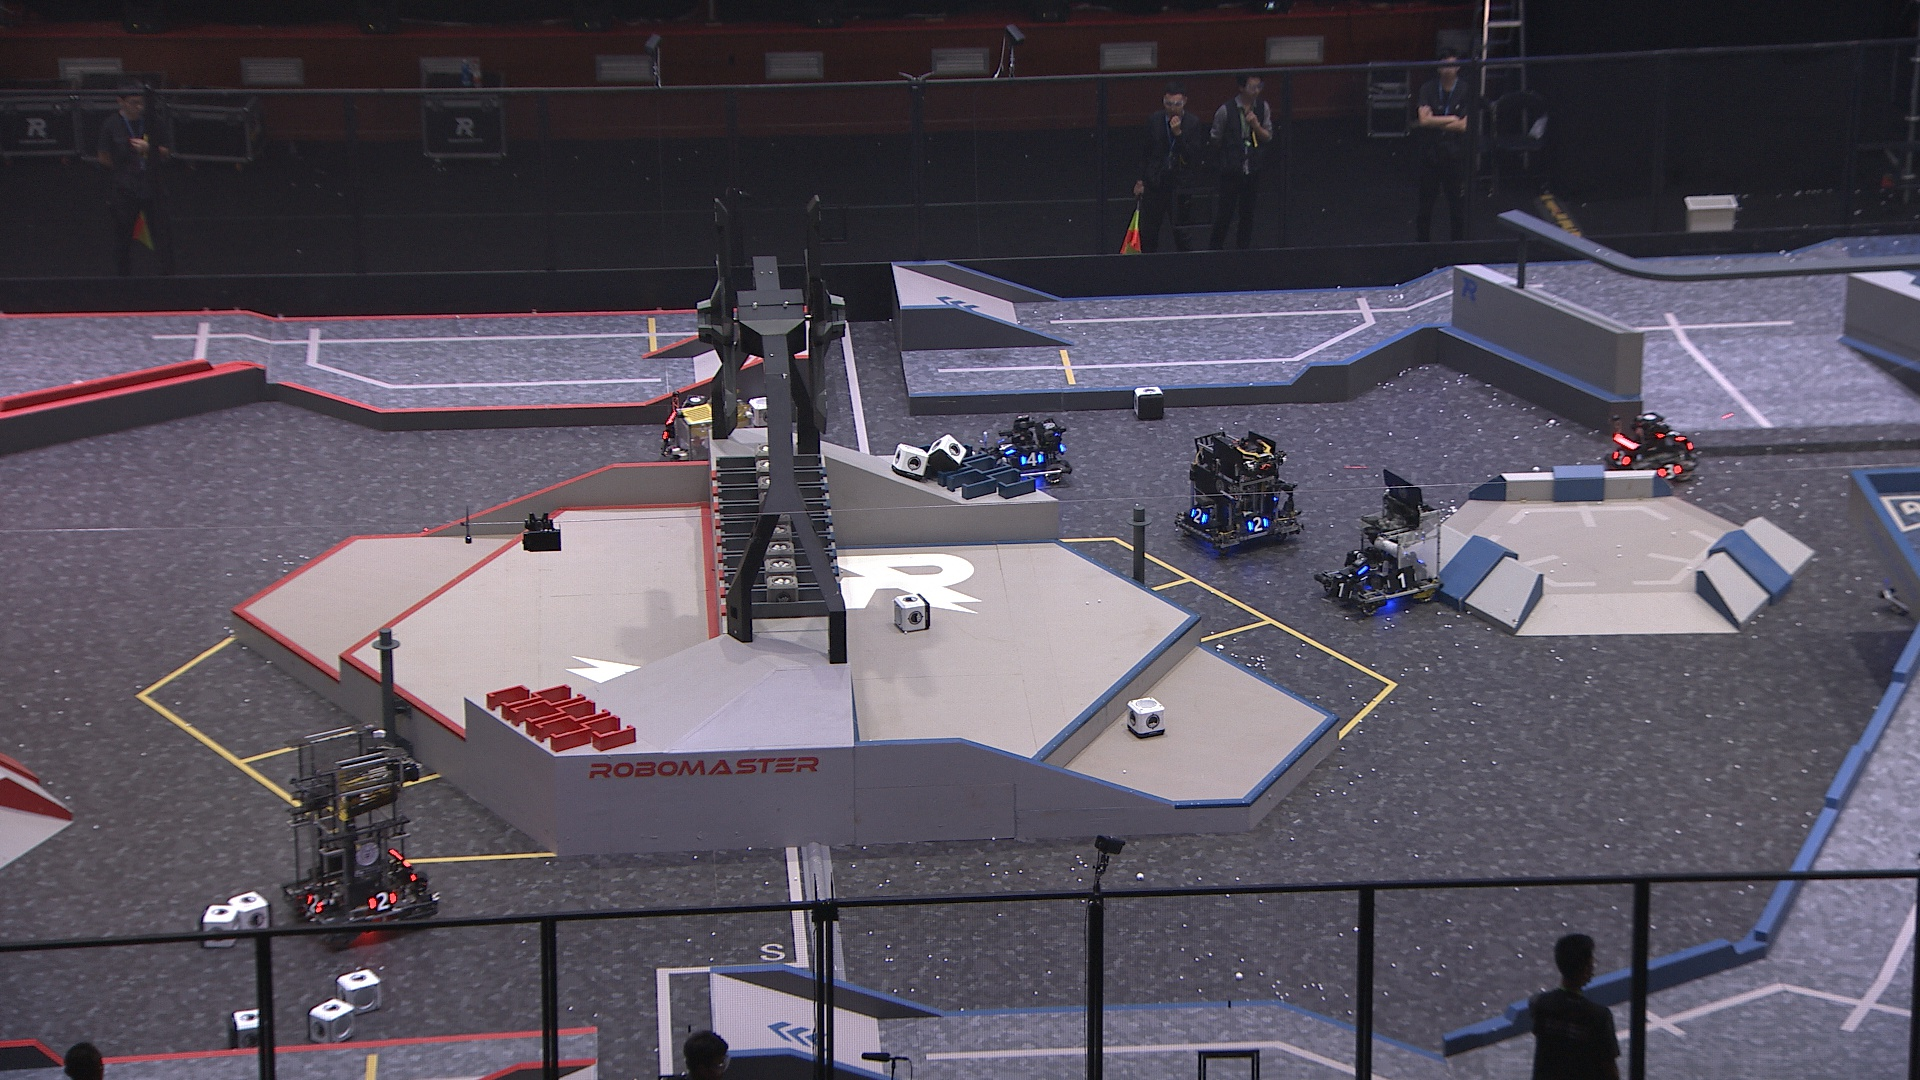armor: (367, 887, 396, 913), (1389, 571, 1418, 593), (1328, 579, 1354, 603), (305, 891, 324, 916), (1021, 450, 1044, 469), (1611, 450, 1631, 471), (1665, 425, 1688, 443), (1658, 462, 1680, 480), (996, 439, 1015, 458), (1188, 506, 1207, 526), (1247, 516, 1269, 531)
car: (284, 723, 442, 940), (1316, 469, 1447, 613), (1174, 429, 1302, 553), (662, 394, 765, 491), (1604, 411, 1698, 495), (978, 413, 1072, 491), (657, 390, 724, 462)
